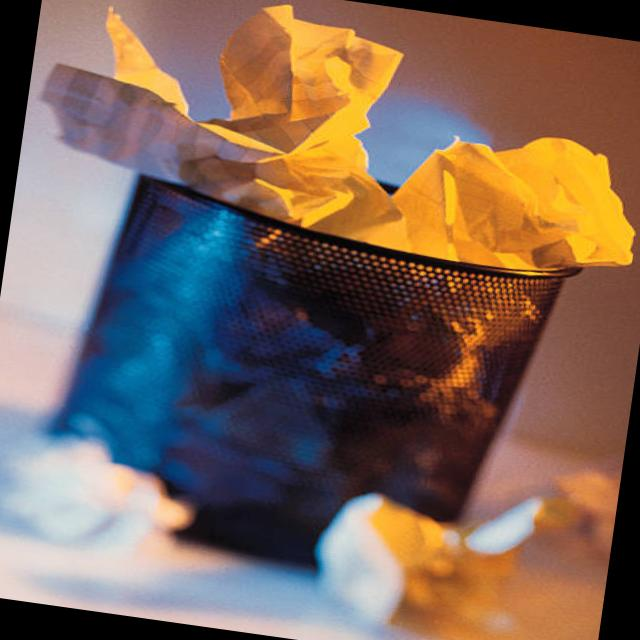electronic: (381, 114, 640, 286), (304, 465, 547, 640), (92, 3, 203, 116)
